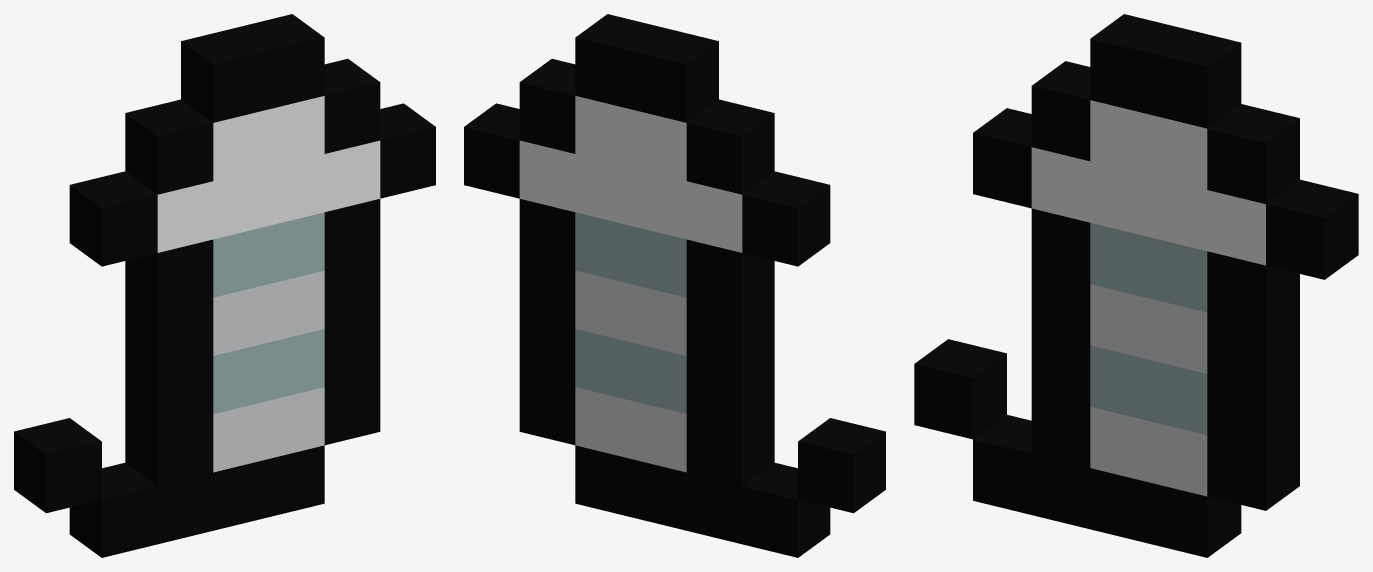
The model's file is White Firecracker.glb.
3 views of the same model, side by side, from view 1: azimuth 30°, elevation 25°; view 2: azimuth 150°, elevation 25°; view 3: azimuth 330°, elevation 25° (orthographic). The views are drawn at different scales.
Visible parts, largest first — view 1: generated(Clone); view 2: generated(Clone); view 3: generated(Clone).
Boxes of the visible parts, <box> form: generated(Clone): <box>14,14,435,557</box>; generated(Clone): <box>464,14,885,557</box>; generated(Clone): <box>914,14,1358,557</box>.
Size of the model in its own units: 7 by 8 by 1.
Materials: 1 (1 with a texture image).
